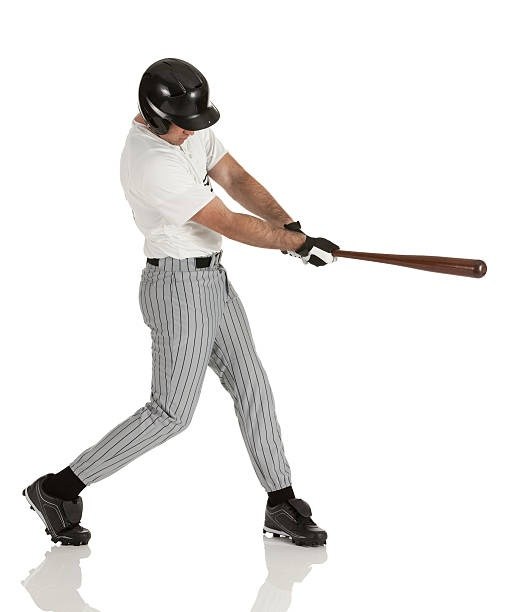bita: (327, 248, 490, 287)
